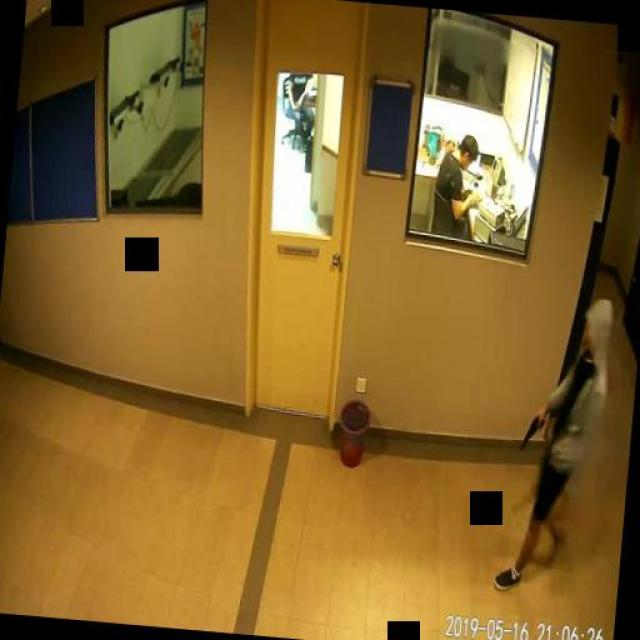gun: (522, 412, 542, 448)
